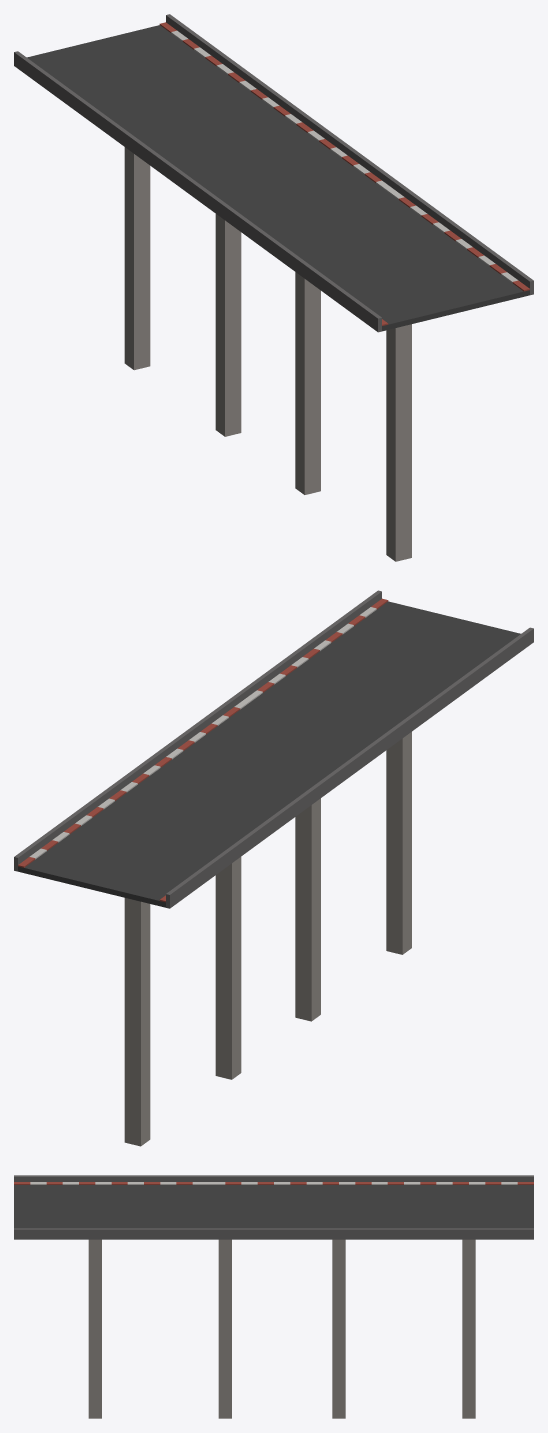
The model's file is tp-elevated.glb.
3 renders of one model, top to bottom at view 1: azimuth 30°, elevation 25°; view 2: azimuth 150°, elevation 25°; view 3: azimuth 270°, elevation 25°, orthographic. The views are drawn at different scales.
Parts seen in each view (by area): view 1: tp-elevated; view 2: tp-elevated; view 3: tp-elevated.
Part boxes in pixels (x1=…): tp-elevated: x1=14, y1=14, x2=533, y2=561; tp-elevated: x1=14, y1=590, x2=533, y2=1146; tp-elevated: x1=14, y1=1175, x2=533, y2=1418.
Size of what is drawn, in the model's own units: 15.43 by 28.23 by 62.42.
Materials: 1 (1 with a texture image).
